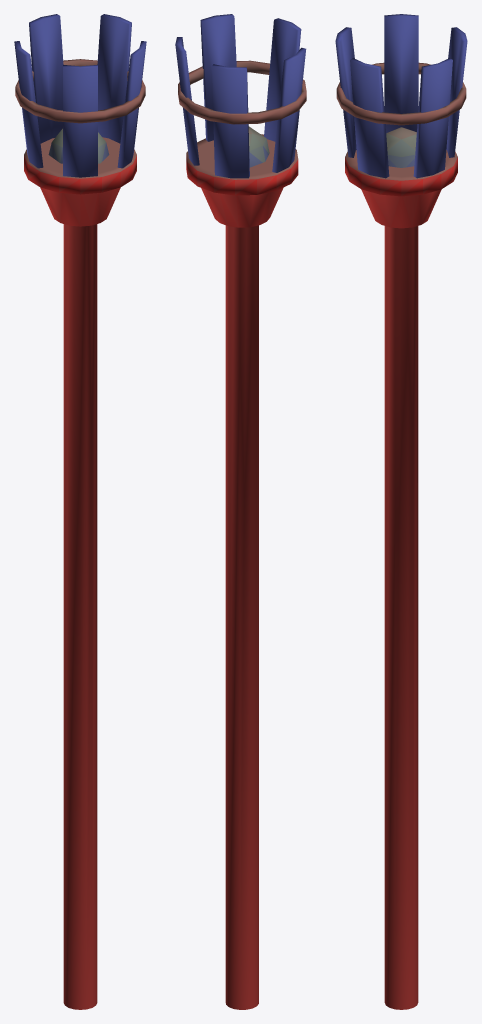
Rendered from torch_stand_01.fbx.
3 views of the same model, side by side, from view 1: azimuth 90°, elevation 25°; view 2: azimuth 150°, elevation 25°; view 3: azimuth 270°, elevation 25° (orthographic).
Parts seen in each view (by area): view 1: Mesh; view 2: Mesh; view 3: Mesh.
Boxes of the visible parts, box(x1,y1,x2,y2) form: Mesh: box(14, 14, 146, 1009); Mesh: box(175, 14, 306, 1009); Mesh: box(335, 14, 467, 1009).
Bounding box in the file's own units: 30.55 × 245 × 30.53.
